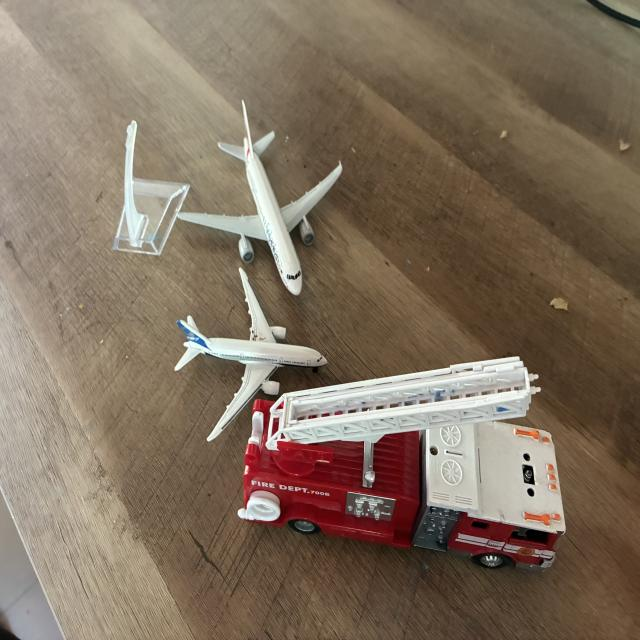air-plane: (179, 101, 342, 295), (175, 269, 327, 441)
cars: (113, 101, 342, 295), (175, 268, 326, 440)
fire-truck: (238, 357, 565, 570)
